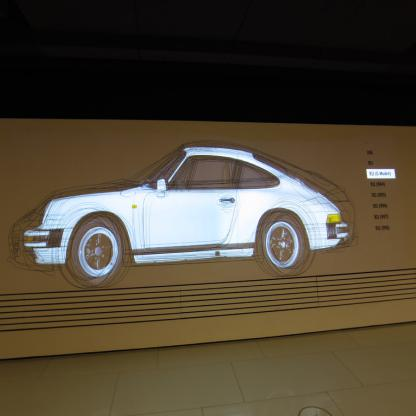Car: (24, 146, 348, 286)
